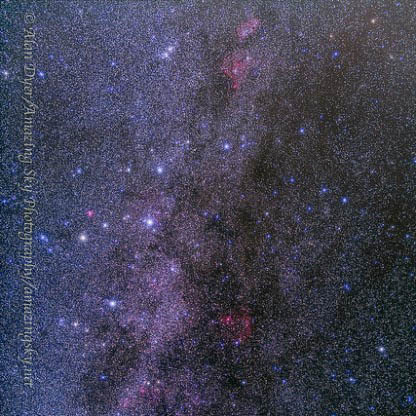Cassiopeia: (74, 218, 118, 250), (148, 157, 179, 188), (139, 210, 167, 232), (216, 135, 236, 163), (104, 292, 125, 315)
